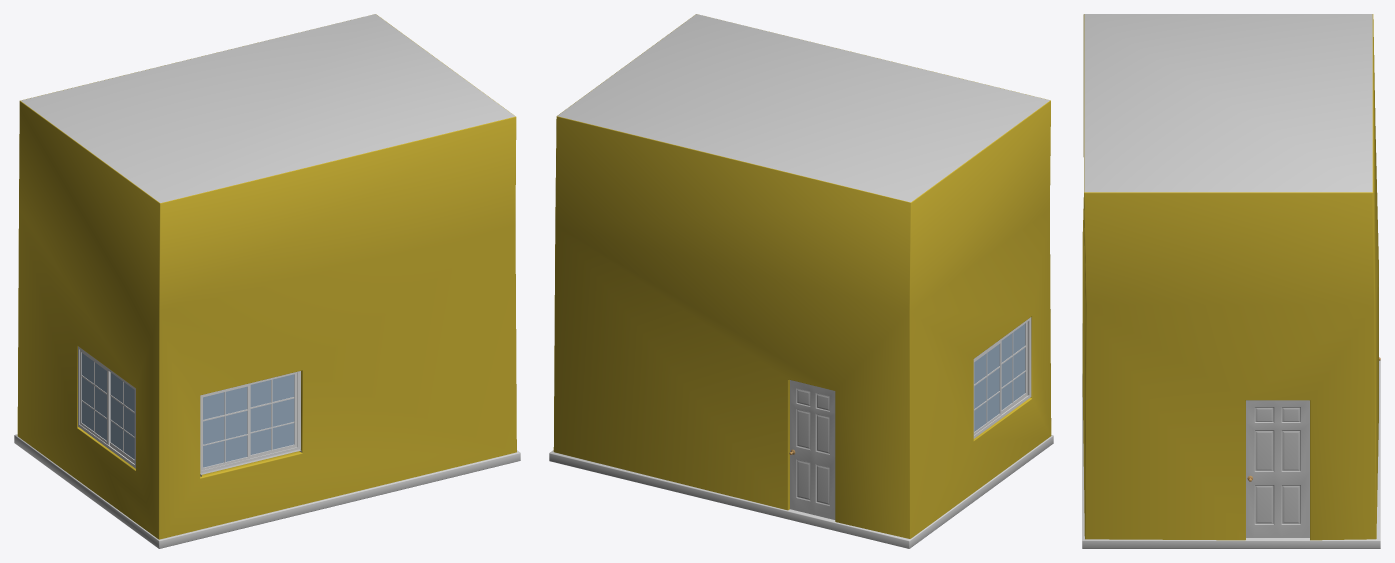
Rendered from RoomOption3.fbx.
3 views of the same model, side by side, from view 1: azimuth 30°, elevation 25°; view 2: azimuth 150°, elevation 25°; view 3: azimuth 270°, elevation 25° (orthographic). The views are drawn at different scales.
Visible parts, largest first — view 1: Cube, Window_1, Window_Frame_2; view 2: Cube, ClosteDoor, Window_1, Window_Frame_2; view 3: Cube, Door.
Boxes of the visible parts, x1,y1,x2,y2 form: Cube: [14, 14, 520, 548]; Window_1: [79, 350, 297, 470]; Window_Frame_2: [78, 346, 300, 473]; Cube: [549, 14, 1053, 548]; ClosteDoor: [789, 380, 835, 519]; Window_1: [974, 322, 1027, 434]; Window_Frame_2: [973, 317, 1031, 438]; Cube: [1082, 14, 1380, 548]; Door: [1246, 400, 1309, 537].
Bounding box in the file's own units: 1661 × 1509 × 1151.
